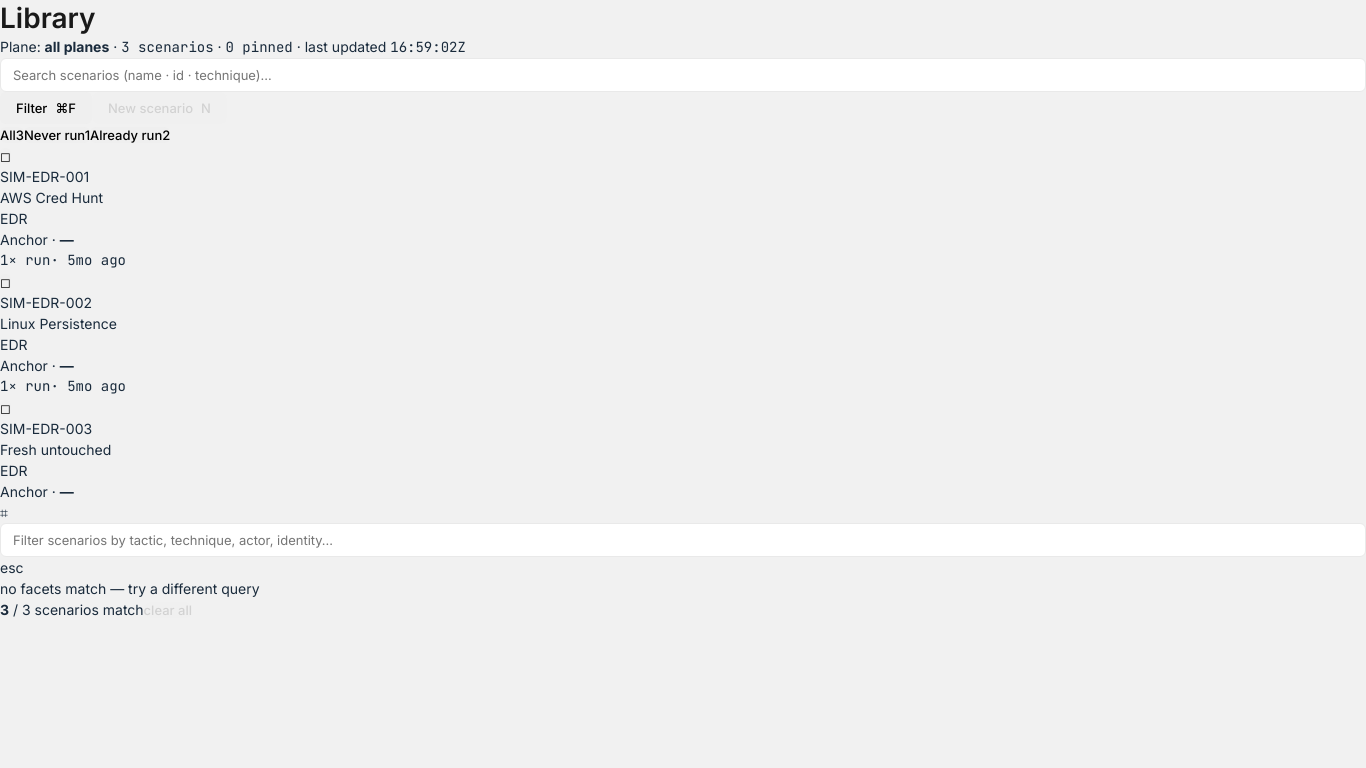
Test: OperationsView history mode strip › "All" mode restores the full set
Expected: the text "AWS Cred Hunt" is shown, [0, 189, 103, 206]
Click the tab "Never run1": (57, 135) [24, 127, 90, 143]
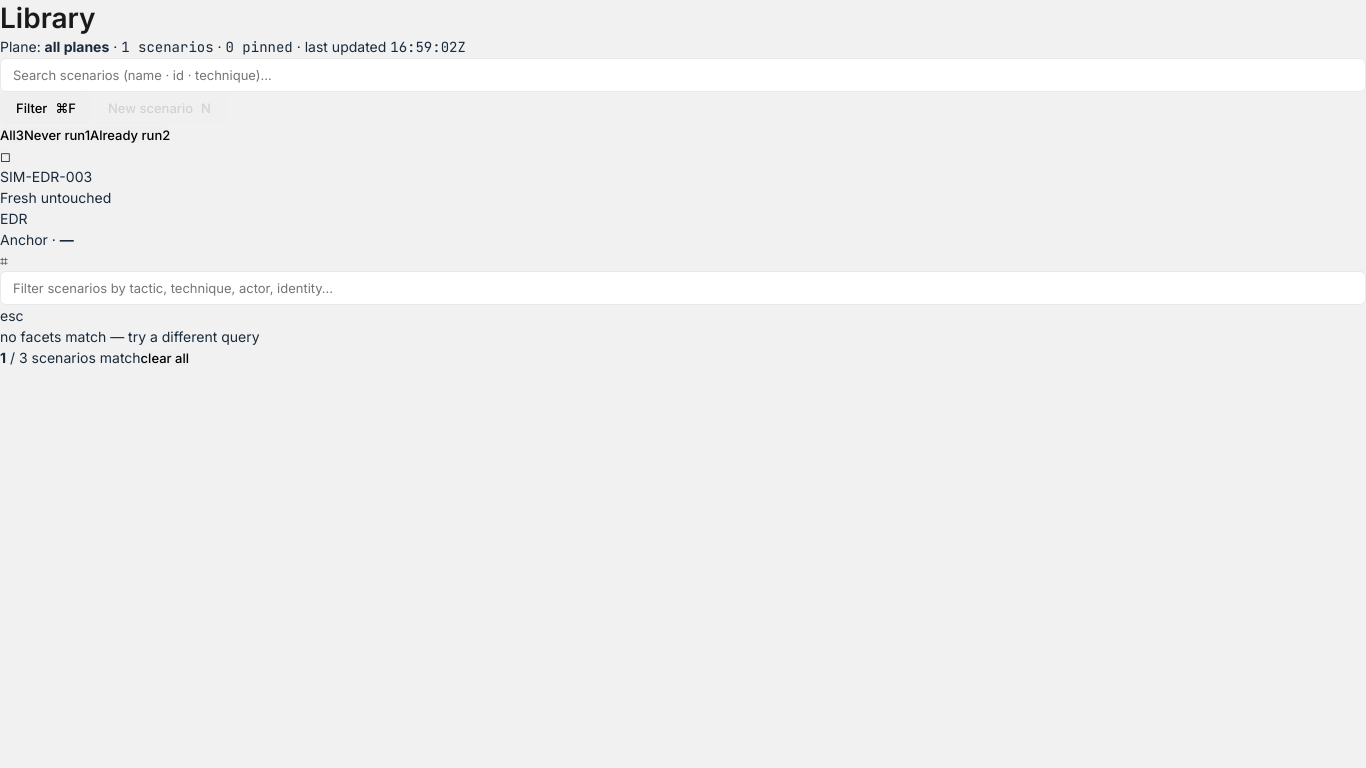
Now the button "AWS Cred Hunt" is gone
Click the tab "All3": (12, 135) [0, 127, 24, 143]
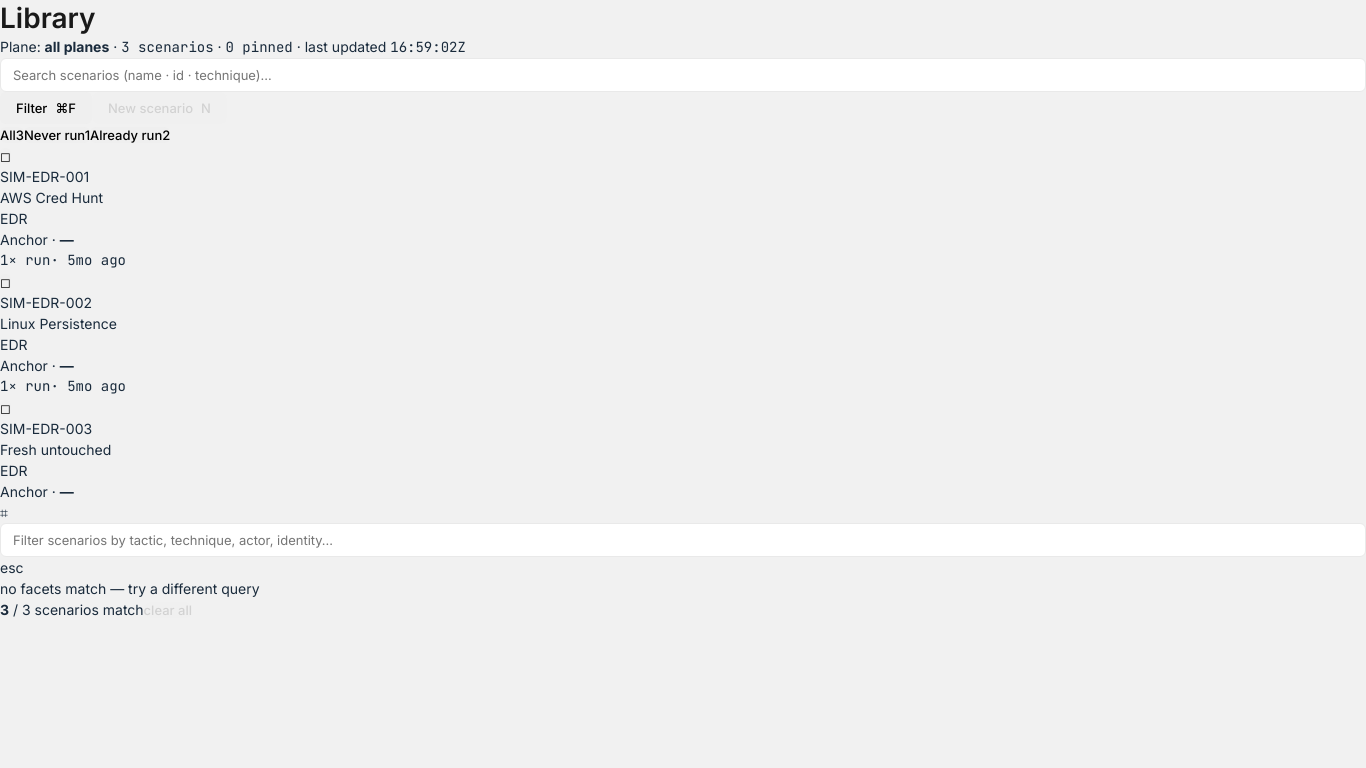
Expected: the text "Fresh untouched" is shown, [0, 441, 111, 458]
Now the text "AWS Cred Hunt" is shown, box [0, 189, 103, 206]
Now the text "Linux Persistence" is shown, box [0, 315, 117, 332]
